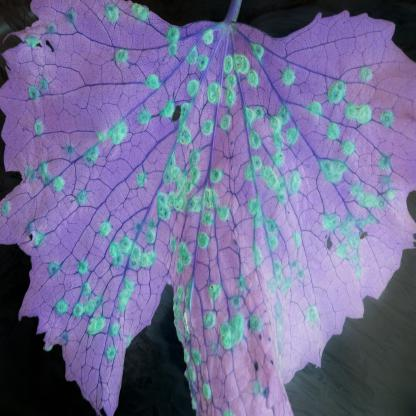grape leaf black rot: (10, 2, 416, 416)
